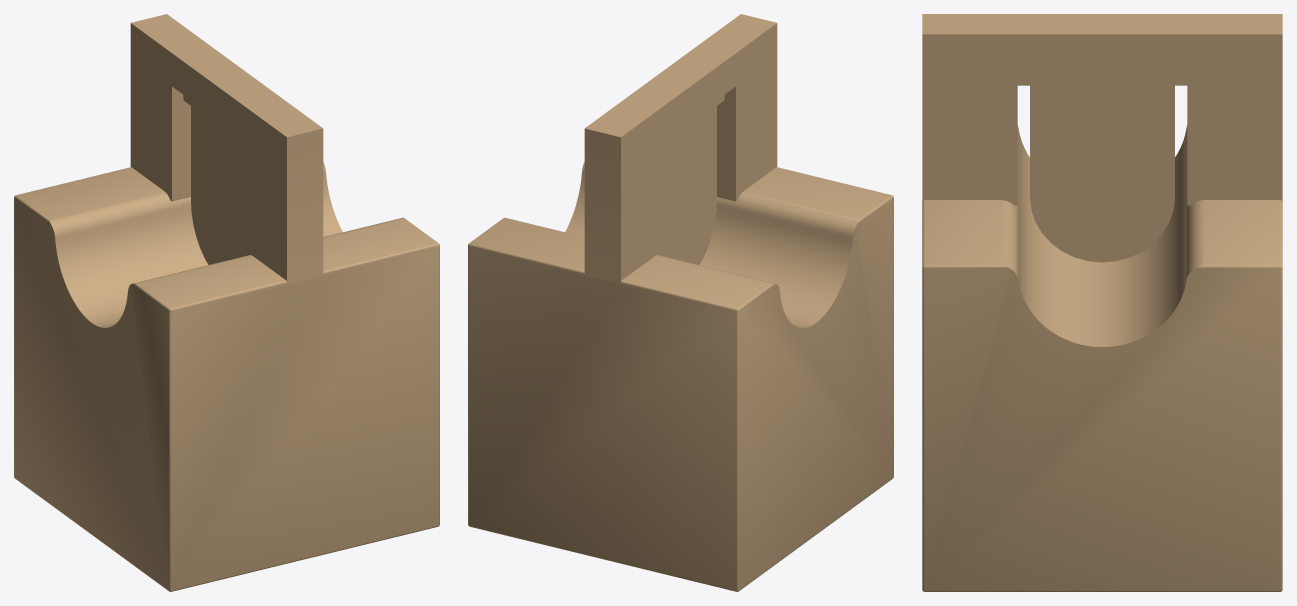
File: mech_gate_oneway_l3.glb
The picture shows the model from 3 angles, left to right: view 1: azimuth 30°, elevation 25°; view 2: azimuth 150°, elevation 25°; view 3: azimuth 270°, elevation 25°; orthographic projection. The views are drawn at different scales.
Visible parts, largest first — view 1: mech_gate_oneway_l3_lod0, anim_flap_lod0; view 2: mech_gate_oneway_l3_lod0, anim_flap_lod0; view 3: mech_gate_oneway_l3_lod0, anim_flap_lod0.
Boxes of the visible parts, box(x1,y1,x2,y2) form: mech_gate_oneway_l3_lod0: box(14, 14, 439, 591); anim_flap_lod0: box(183, 95, 245, 264); mech_gate_oneway_l3_lod0: box(468, 14, 893, 591); anim_flap_lod0: box(662, 95, 724, 264); mech_gate_oneway_l3_lod0: box(922, 14, 1282, 591); anim_flap_lod0: box(1017, 73, 1187, 262).
Size of what is drawn, in the model's own units: 0.0596 by 0.0898 by 0.0596.
